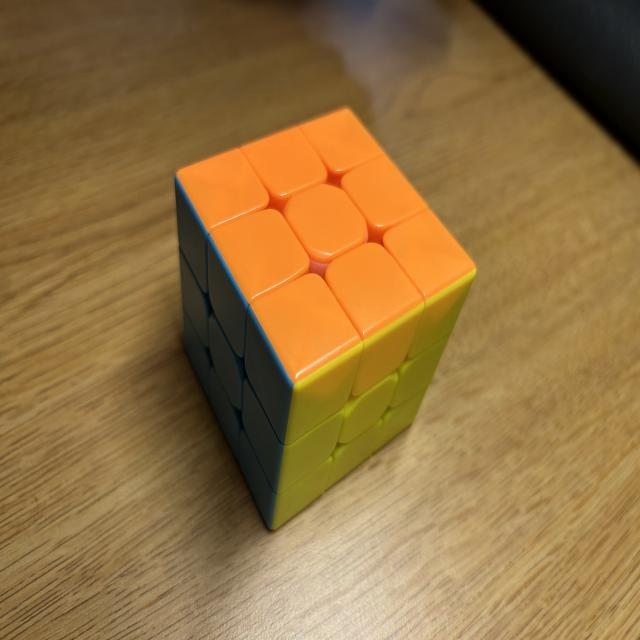Rubiks Cube: (175, 103, 475, 532)
